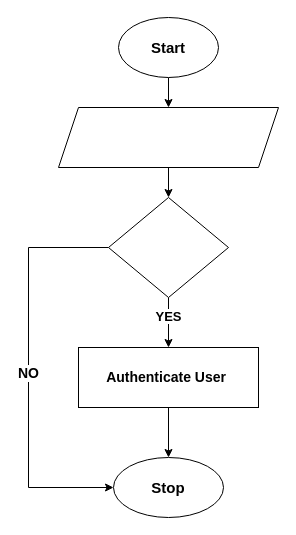
This 296x535 diagram has some shape labels left out. The centre of each missing label's shape, as x and y in pixels:
"User Login Form" belongs at [168,137].
"Verify Credentials" belongs at [168,247].
